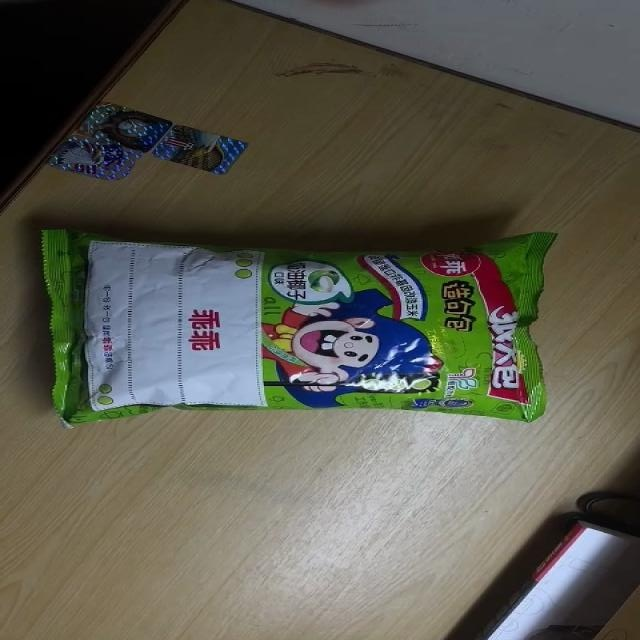Good-Luck: (49, 232, 557, 428)
